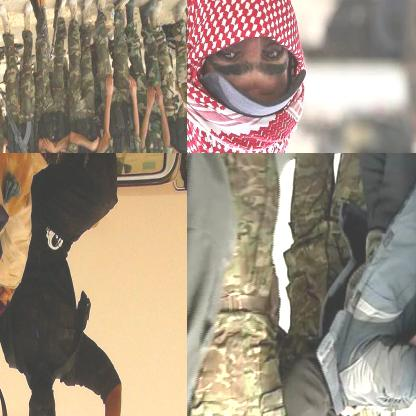rifle: (0, 87, 46, 152), (23, 0, 55, 56), (49, 0, 79, 59), (2, 0, 43, 40)
